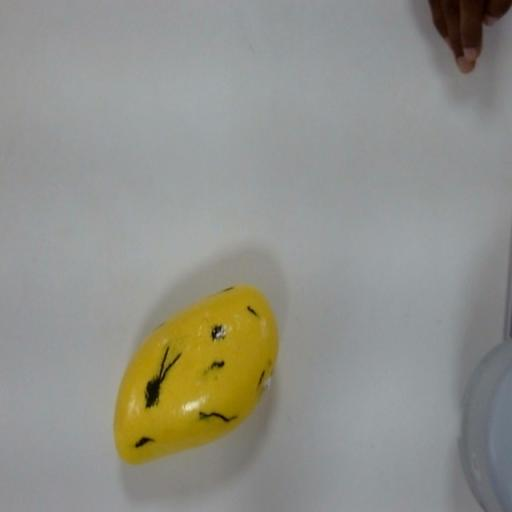Defective: (106, 276, 282, 471)
